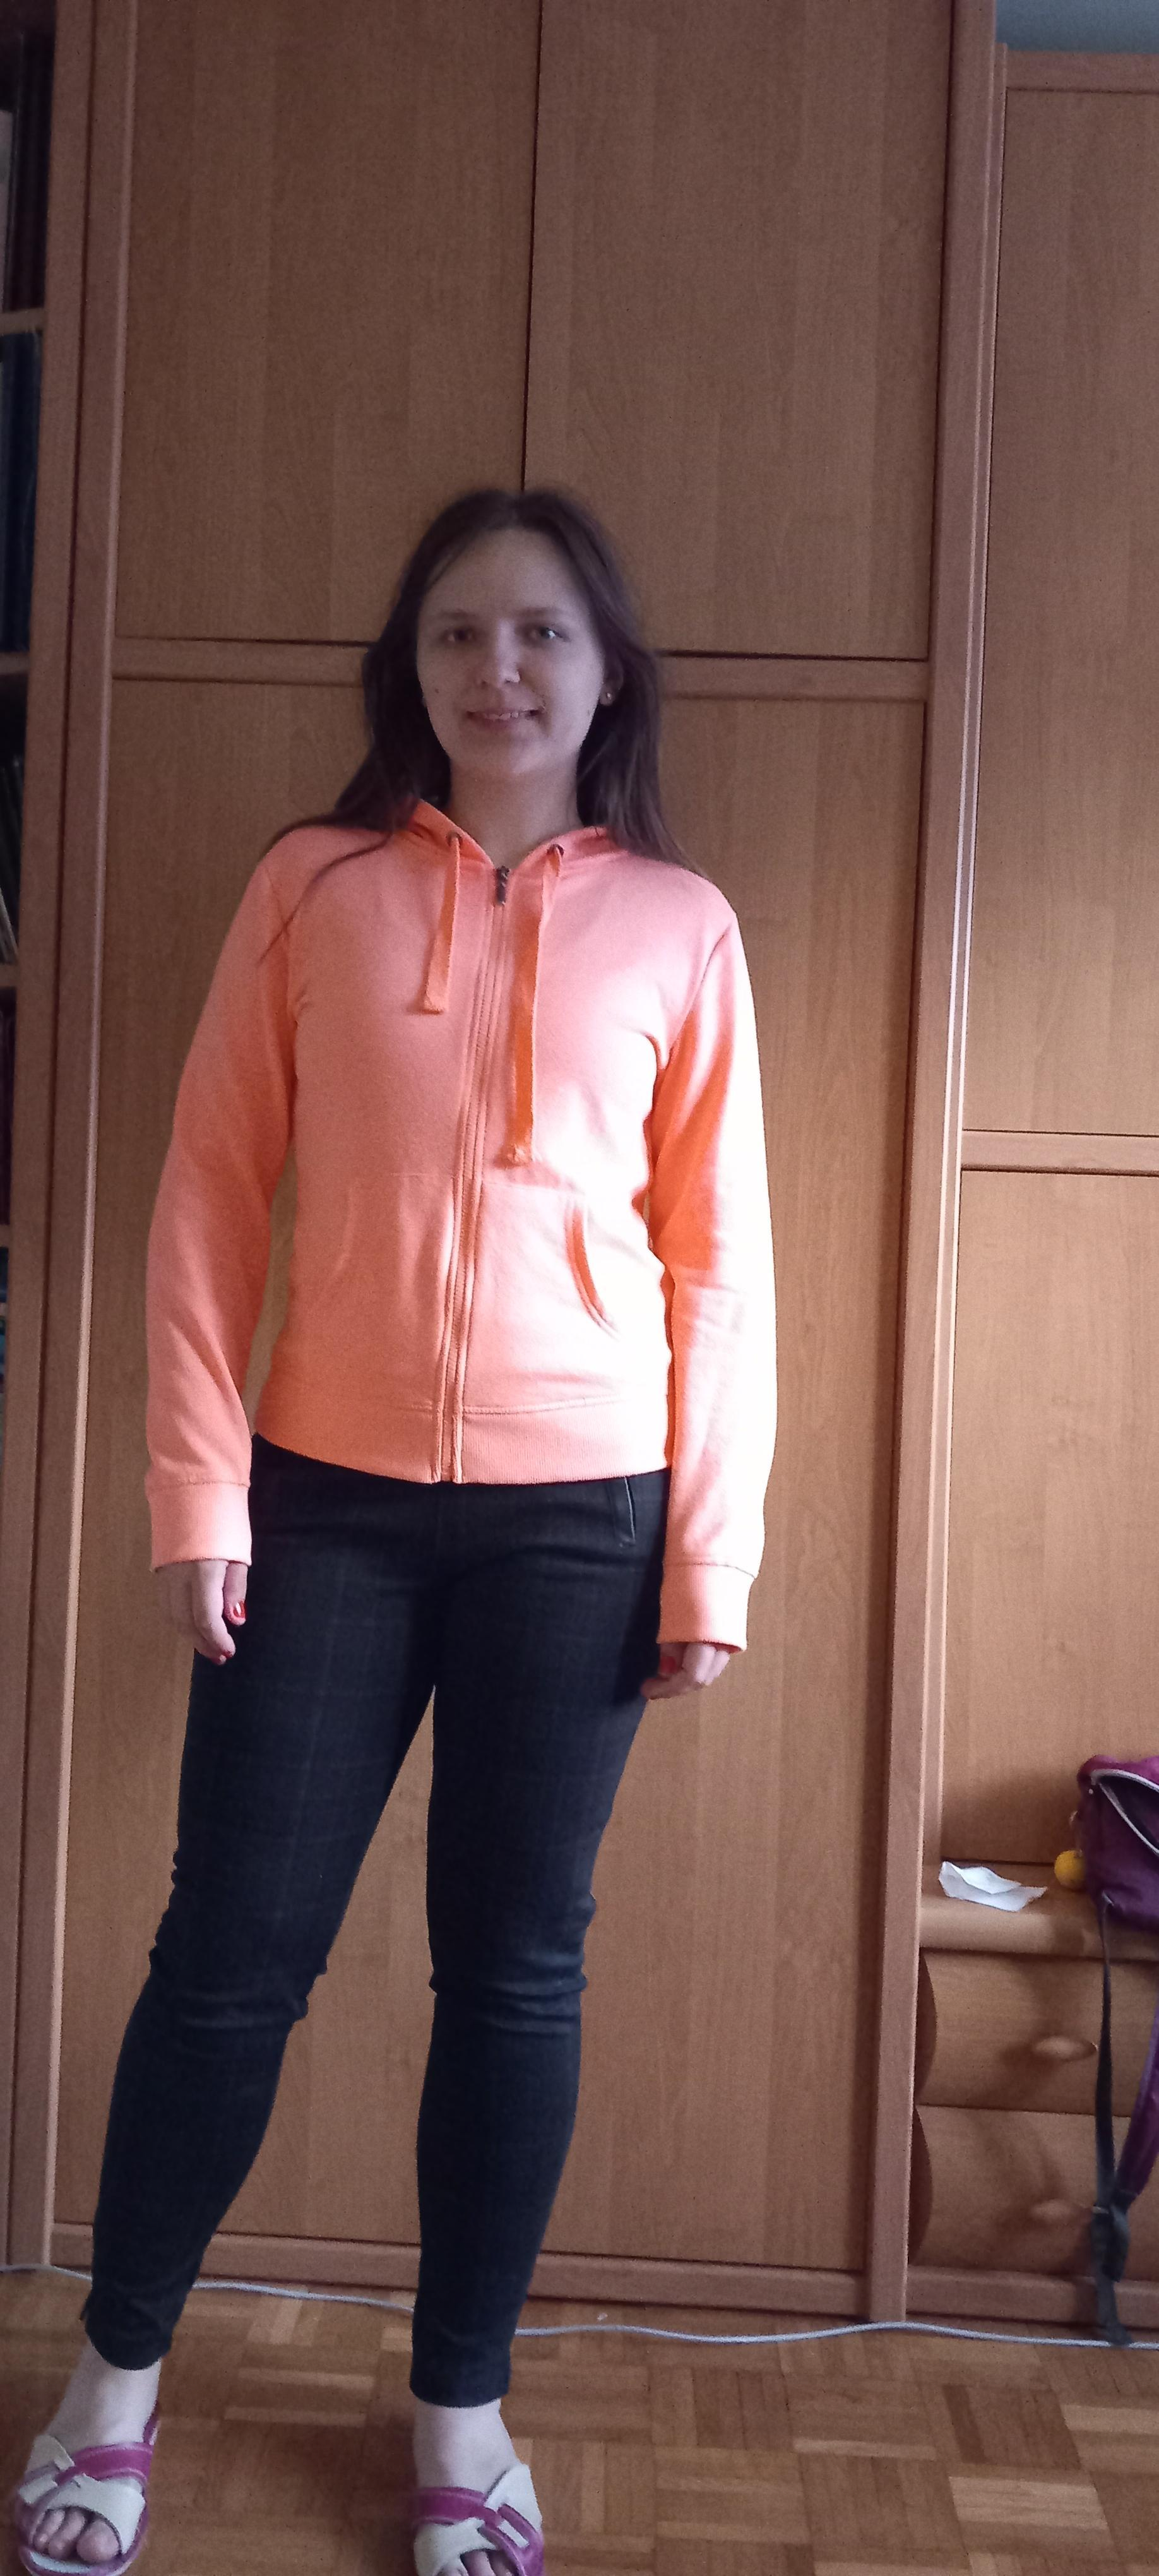pants: (80, 1431, 685, 2405)
sweater: (141, 793, 778, 1649)
